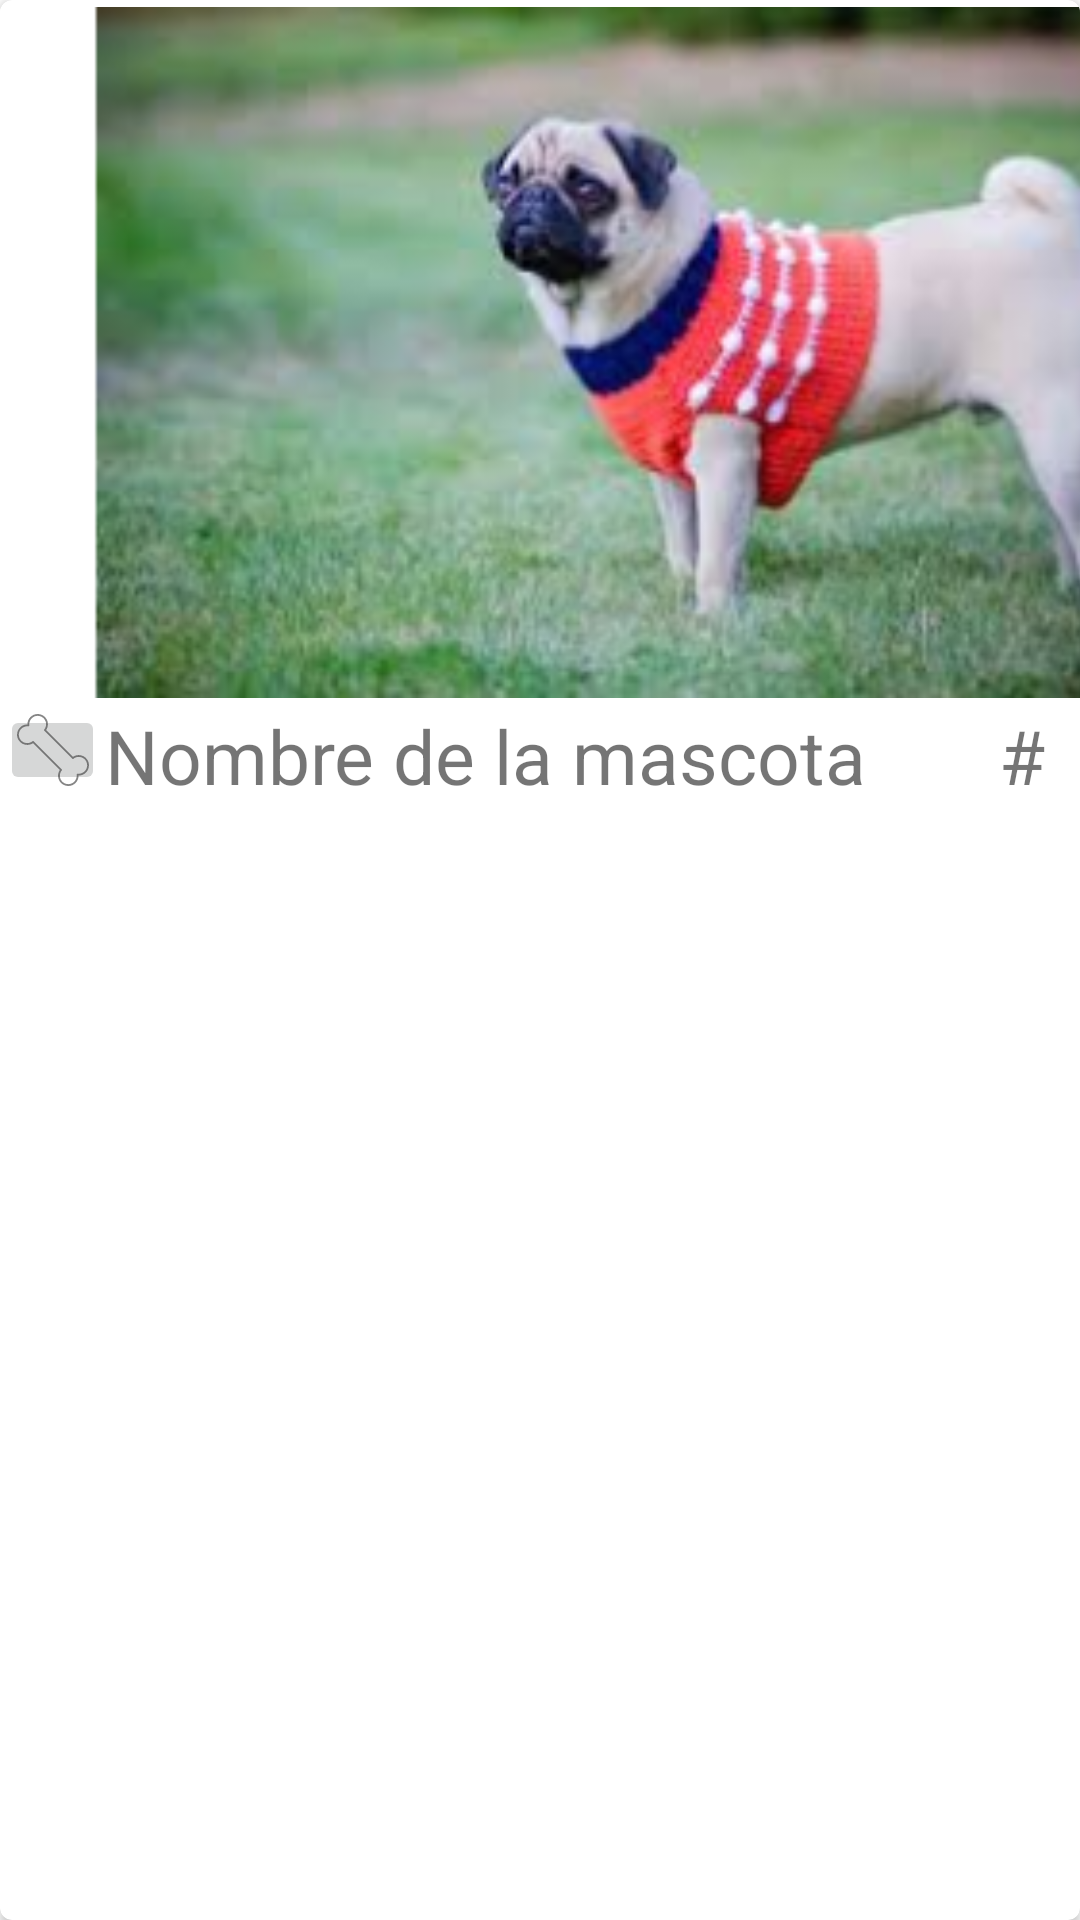

Screen size 1080×1920. Icon name, then its box in pixels as (x1, y1, x2, y2):
hueso: (12, 714, 93, 786)
